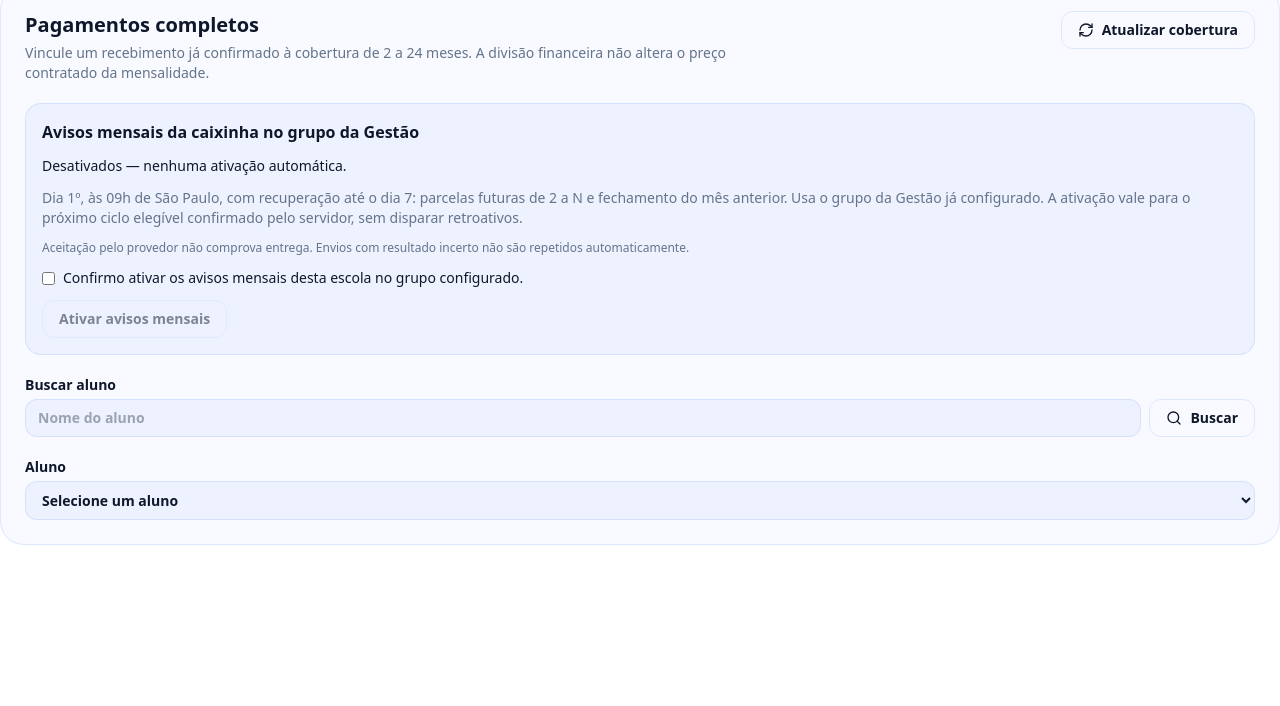
Scenario: pagamentos completos na direção › exibe revisão efetiva do provedor sem apresentar cobertura como ativa
The image size is (1280, 706).
Step 1. Select "Aluna A" in the dropdown labelled "Aluno" → (640, 500), box left=25, top=481, right=1255, bottom=520
(page scrolled)
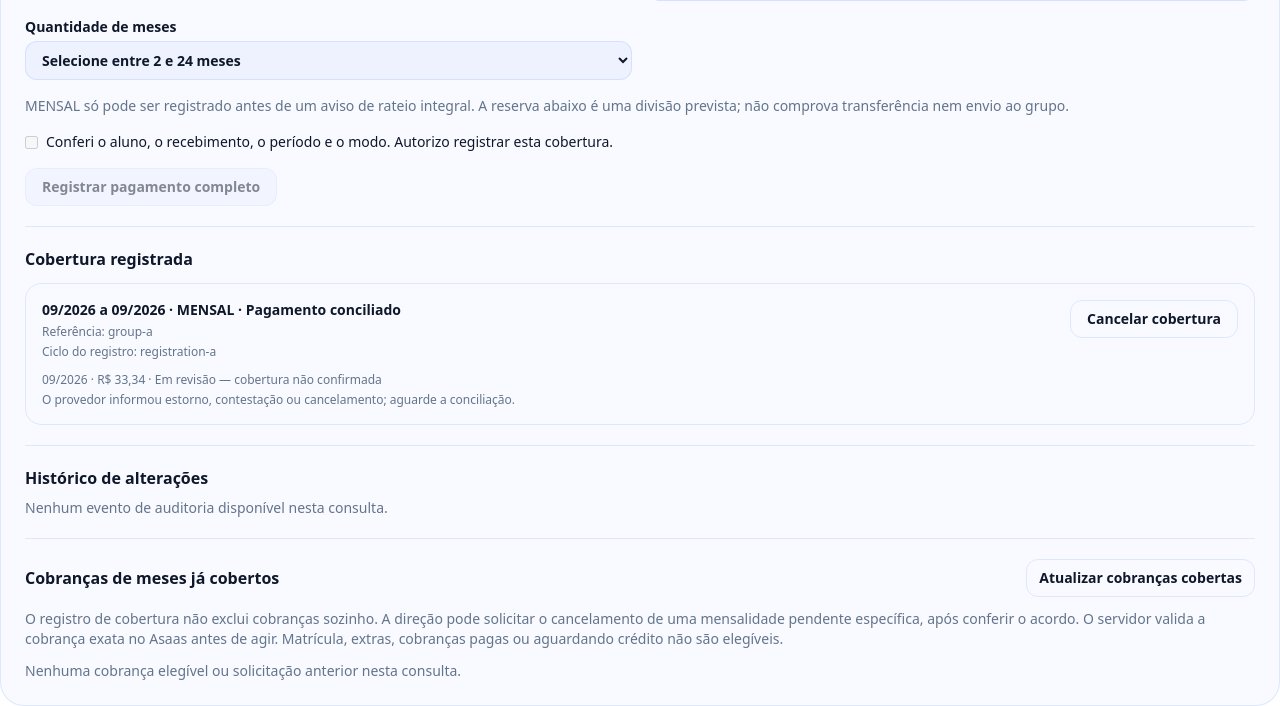
Result: the list item "Em revisão — cobertura não confirmada" is shown at left=155, top=371, right=382, bottom=388
Result: the text "O provedor informou estorno" is shown at left=42, top=391, right=515, bottom=408
